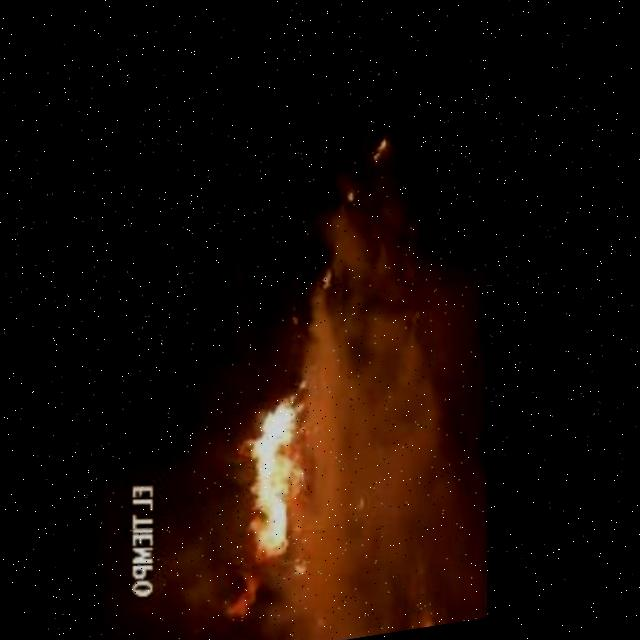fire: (193, 378, 347, 630)
